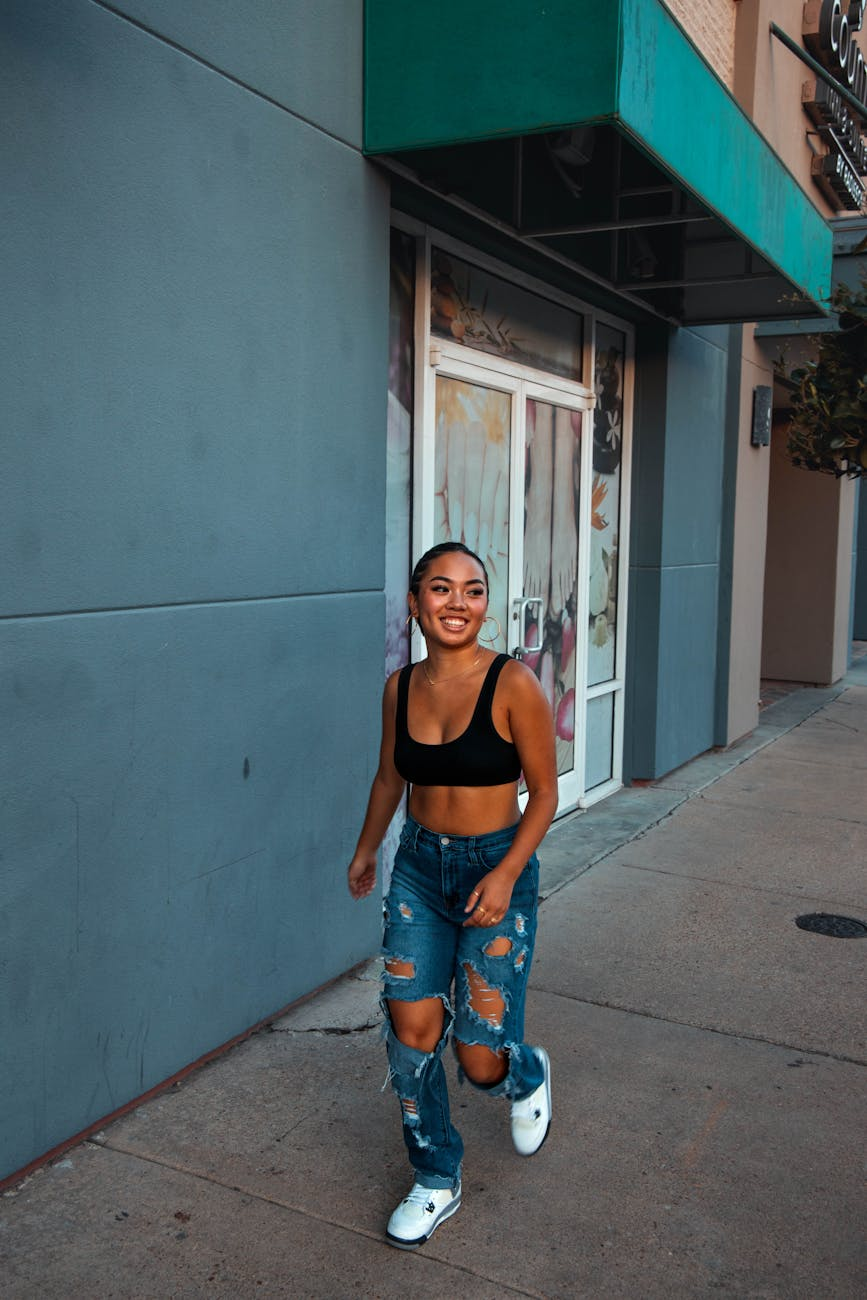crop_top: (386, 646, 532, 790)
ripped_jeans: (365, 817, 544, 1194)
